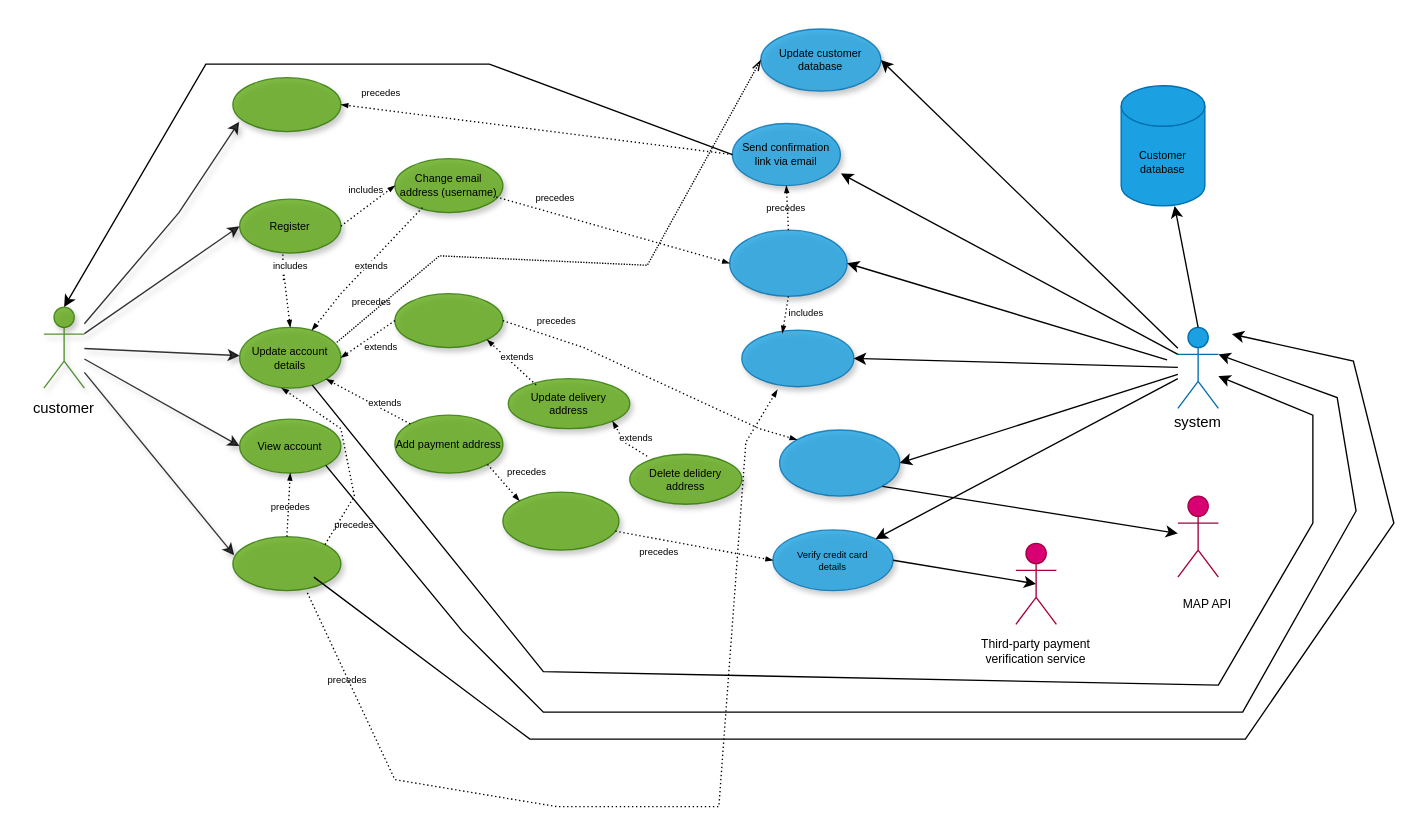
The diagram is 1428 pixels wide and 837 high, and some of its shapes have lost their labels. The shapes that lost their labels are listed below. From the top down, each one's centre as x and y in pixels, then its label:
At pixel 287 106: "Confirm email address".
At pixel 789 264: "Verify email is unique".
At pixel 449 322: "add delivery address".
At pixel 798 359: "Check for existing account".
At pixel 840 464: "verify valid address".
At pixel 561 522: "Enter payment details".
At pixel 287 565: "Login".
